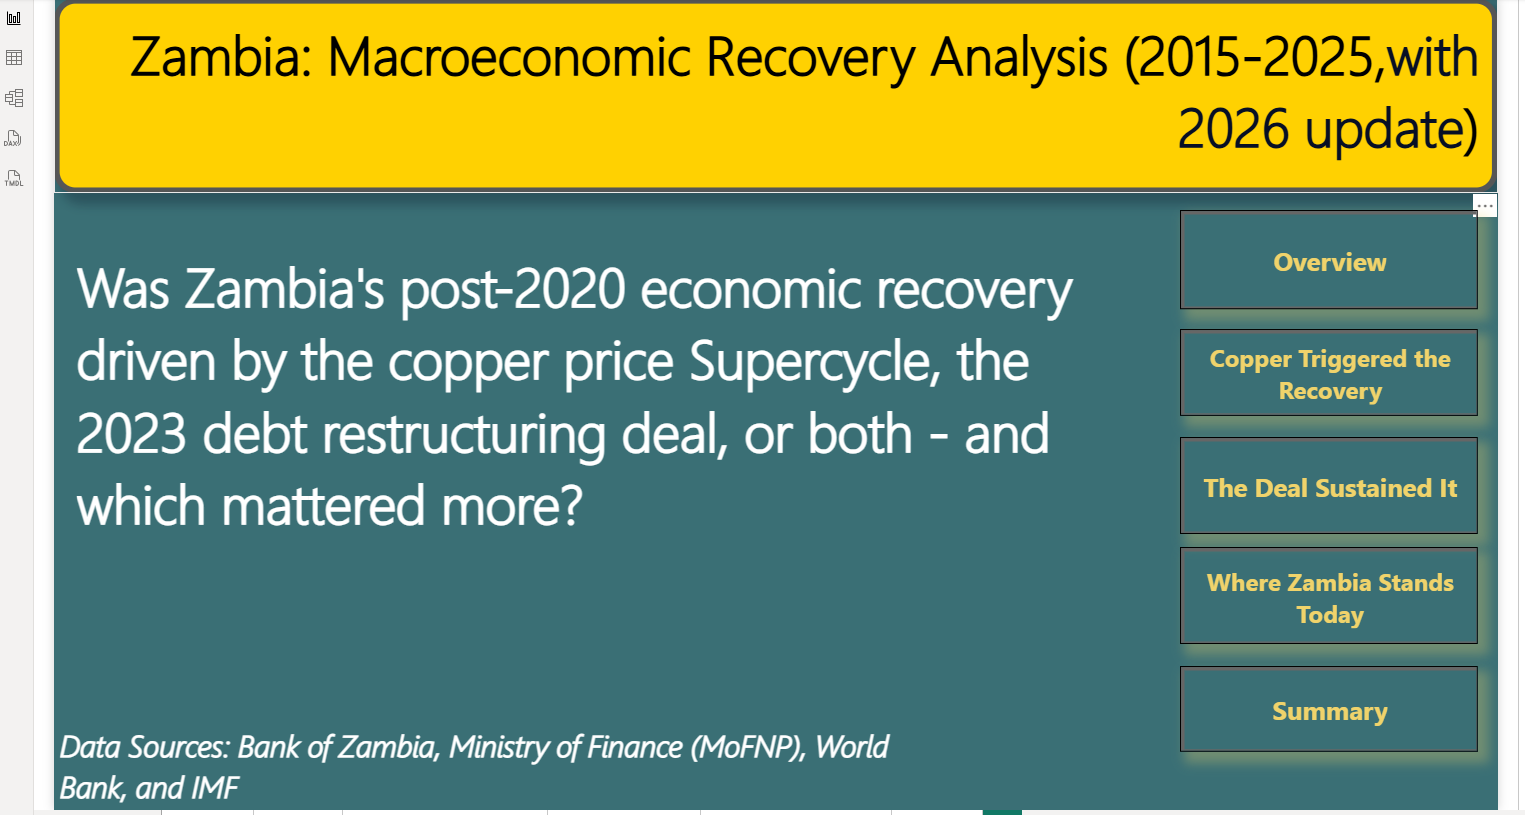

The page's visual inventory and layout, read from the dashboard file:
{"tool":"powerbi","page":{"name":"Welcome ","canvas":[1280,720],"ordinal":0},"visuals":[{"type":"textbox","box":[0,0,1280,173.3],"z":0},{"type":"actionButton","box":[998.4,293.4,264.5,76.7],"z":1000},{"type":"actionButton","box":[998.4,592.2,264.5,75.8],"z":2000},{"type":"textbox","box":[15.1,217.5,950.1,282.5],"z":3000},{"type":"textbox","box":[0,639,764.3,81.6],"z":4000},{"type":"actionButton","box":[998.4,187.8,264.5,87.6],"z":5000},{"type":"actionButton","box":[998.4,389.1,264.5,85.8],"z":6000},{"type":"actionButton","box":[998.4,486.5,264.5,85.8],"z":7000}]}

Visuals, with their boxes on the page's 1280x720 design canvas (x1, y1, x2, y2). These are canvas units, not pixel positions in the 1525x815 screenshot, which may show the page scaled, cropped or inside an application window:
textbox: bbox=(0, 0, 1280, 173)
actionButton: bbox=(998, 293, 1263, 370)
actionButton: bbox=(998, 592, 1263, 668)
textbox: bbox=(15, 218, 965, 500)
textbox: bbox=(0, 639, 764, 721)
actionButton: bbox=(998, 188, 1263, 275)
actionButton: bbox=(998, 389, 1263, 475)
actionButton: bbox=(998, 486, 1263, 572)
